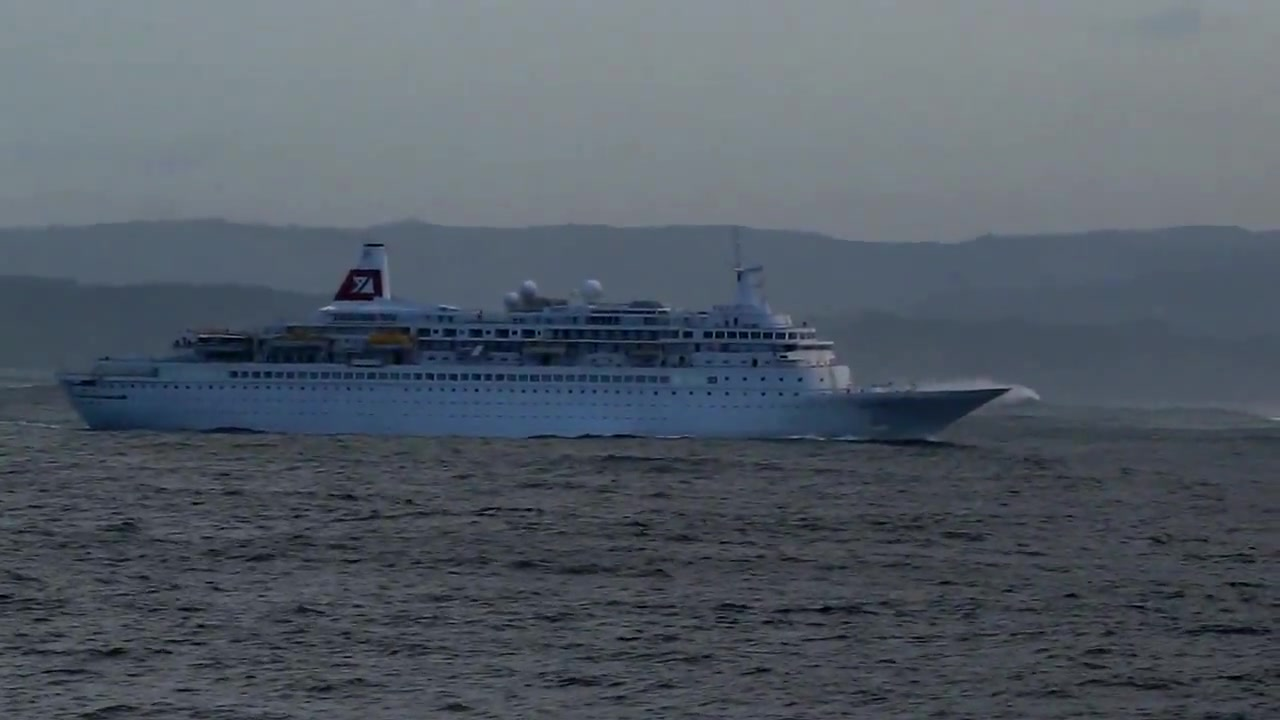boat: (55, 238, 1016, 445)
